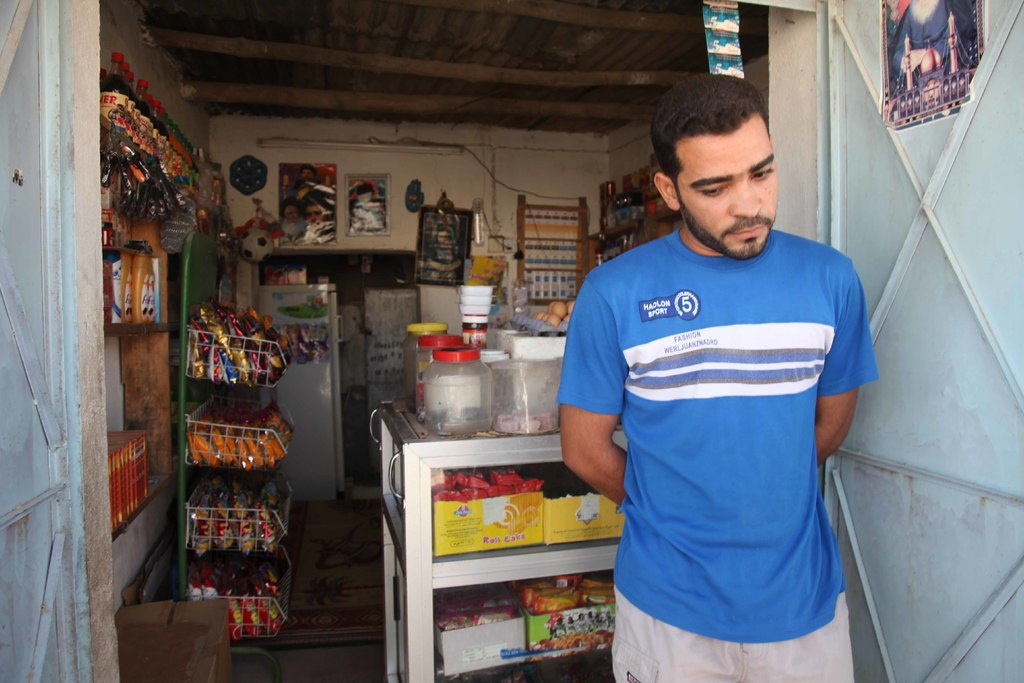door: (839, 48, 1024, 679), (0, 59, 80, 668)
handle: (385, 451, 408, 498), (363, 408, 386, 443), (334, 306, 350, 352)
refrigerator door: (323, 288, 355, 482)
